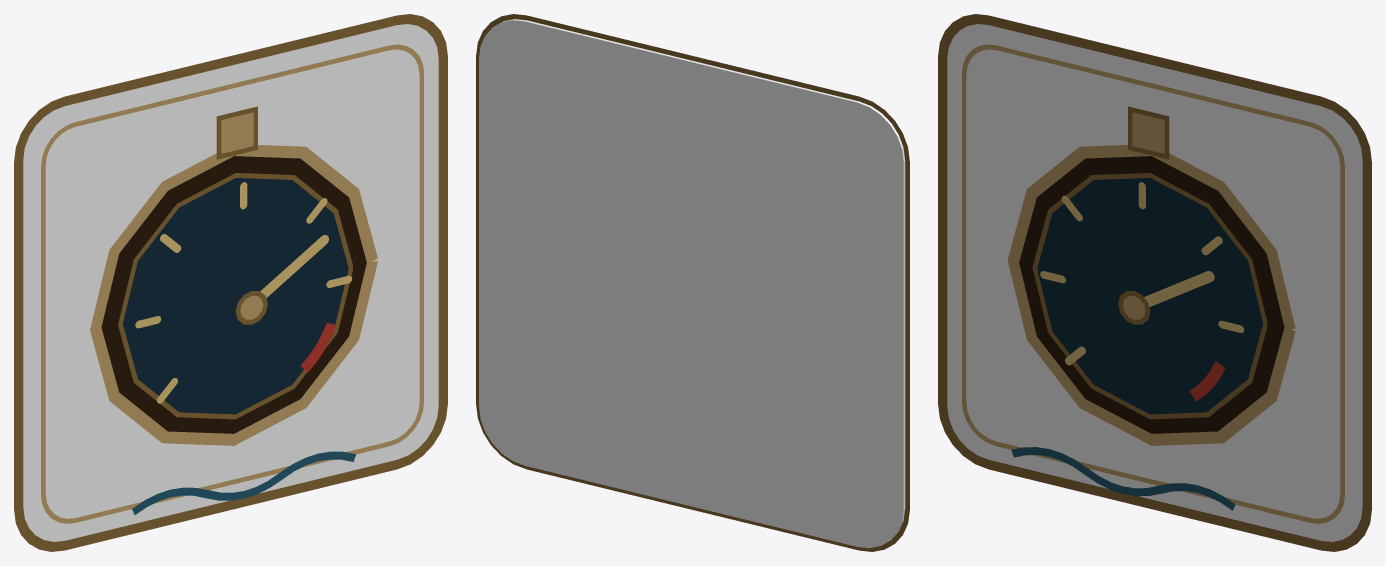
The model's file is obj-glubinomer.glb.
3 views of the same model, side by side, from view 1: azimuth 30°, elevation 25°; view 2: azimuth 150°, elevation 25°; view 3: azimuth 330°, elevation 25° (orthographic).
Parts seen in each view (by area): view 1: obj-glubinomer; view 2: obj-glubinomer; view 3: obj-glubinomer.
Part boxes in pixels (x1,y1,x2,y2): obj-glubinomer: (14, 14, 447, 551); obj-glubinomer: (476, 14, 909, 551); obj-glubinomer: (938, 14, 1371, 551).
Bounding box in the file's own units: 0.3917 × 0.3917 × 0.0376.
